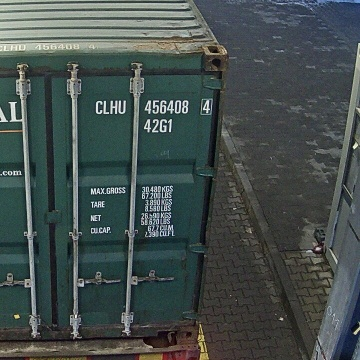serial_id: (95, 100, 210, 114)
